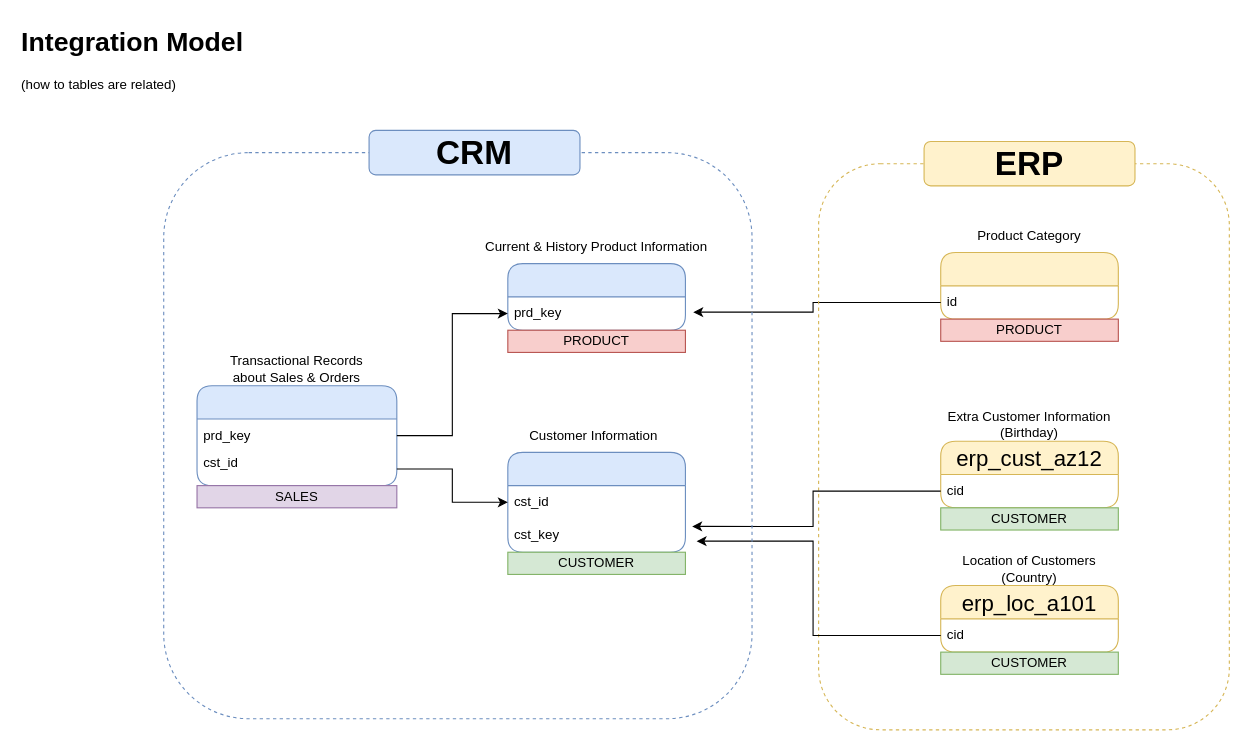
Image size: 1249x749. Some labels were removed from this diagram. Here are the shapes that lost their labels. From the top down, the box of each, then its label:
(507, 263, 685, 330): crm_prd_info
(940, 251, 1118, 319): erp_px_cat_g1v2
(196, 385, 397, 486): crm_sales_details
(507, 451, 685, 552): crm_cust_info
